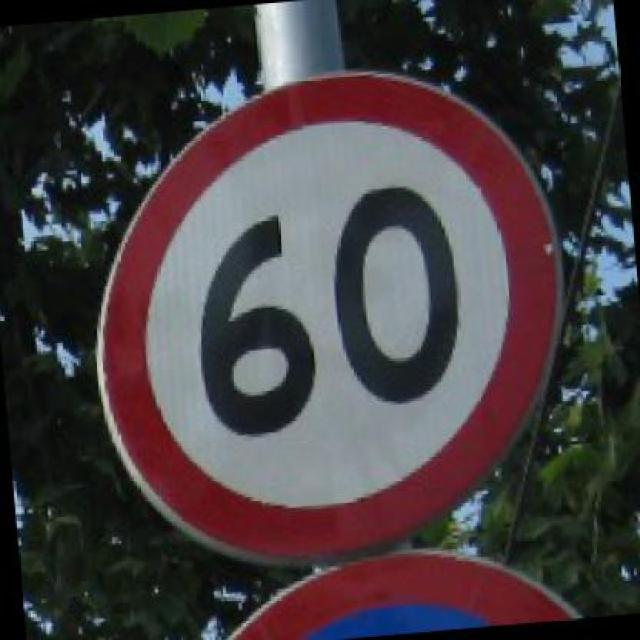Limite-60: (94, 66, 565, 561)
